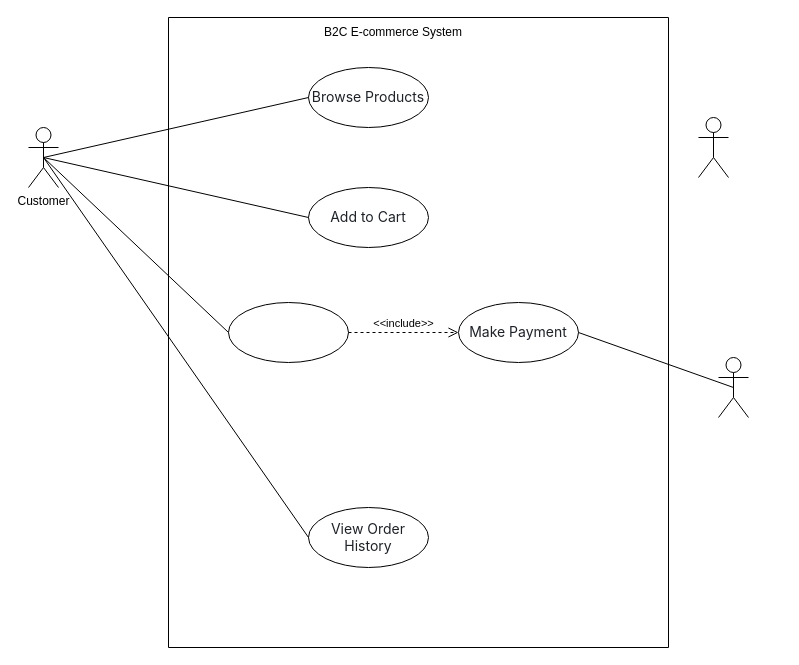
Image size: 799x665. Some labels were removed from this diagram. The shapes that lost their labels are listed below. From the top down, each one's box as (x1, y1, x2, y2) in pixels, then its label:
(698, 116, 728, 178): System
(228, 302, 348, 362): Checkout
(718, 356, 748, 418): Payment Gateway
